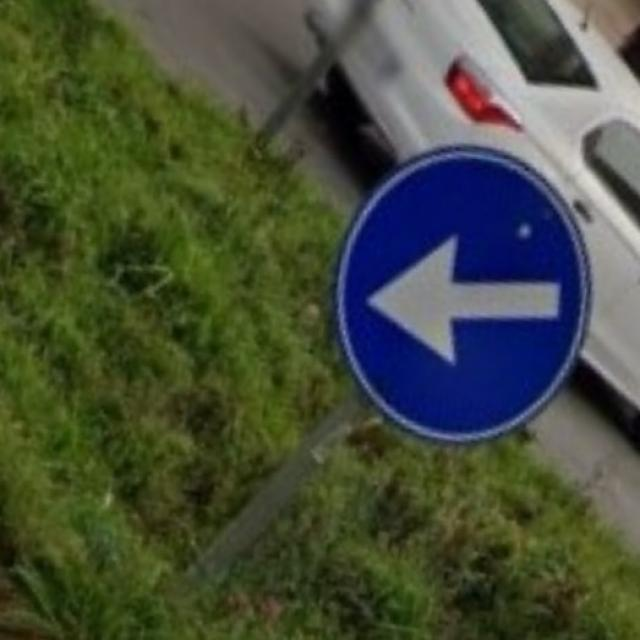Turn Left: (340, 149, 583, 444)
